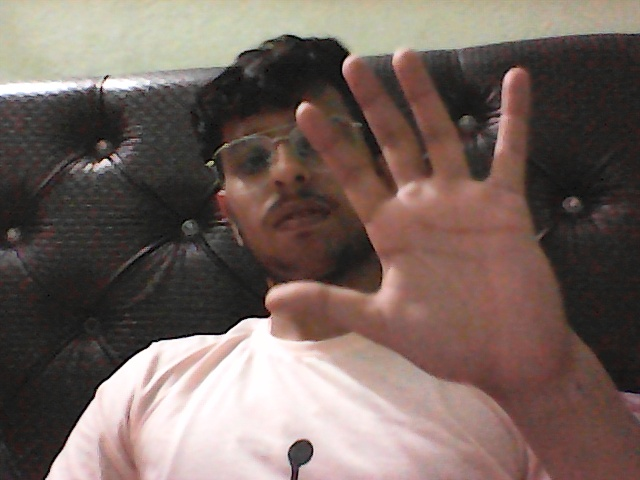hello: (263, 41, 579, 424)
